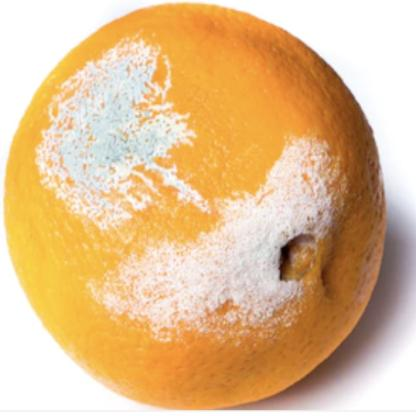rotten: (3, 4, 387, 402)
